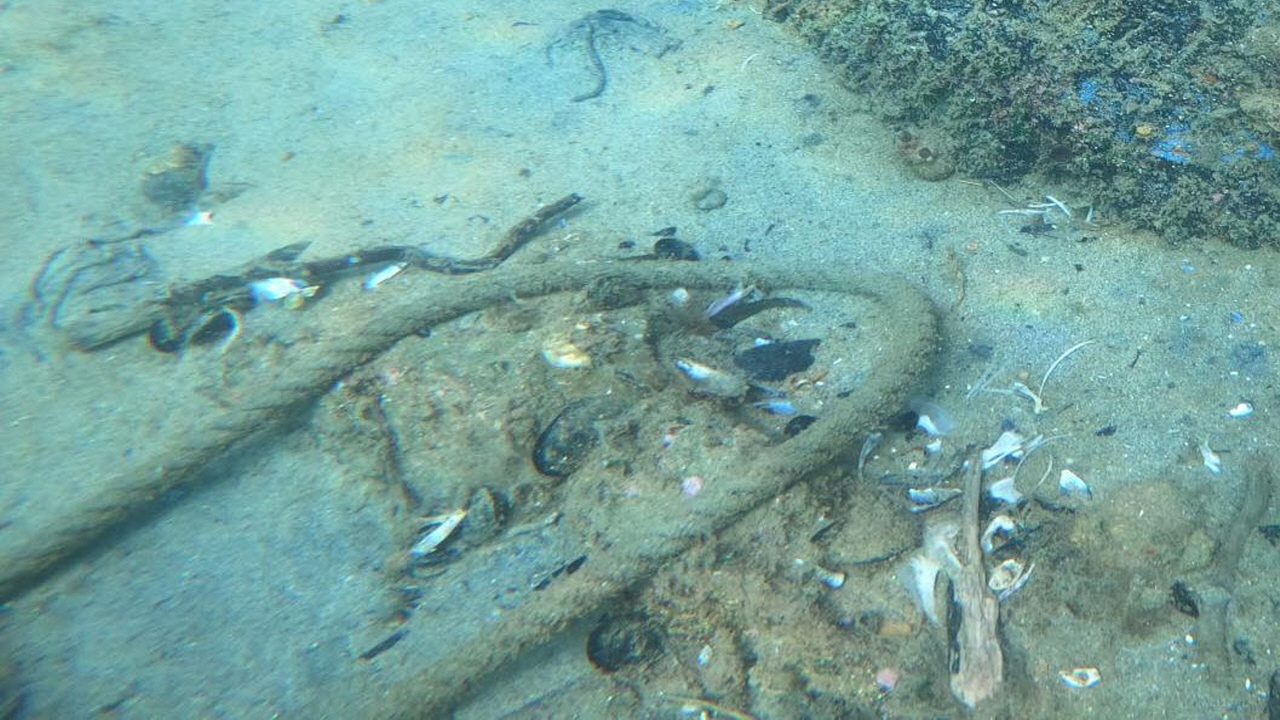rope: (0, 251, 945, 715)
